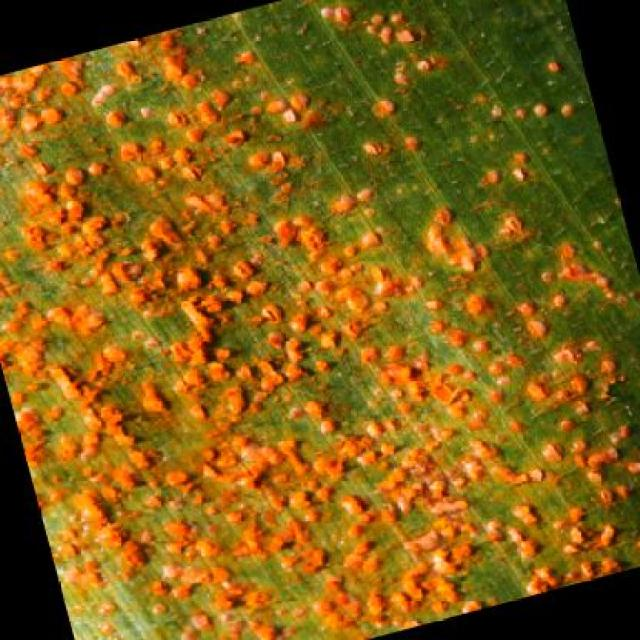Corn_Rust: (62, 63, 580, 585)
